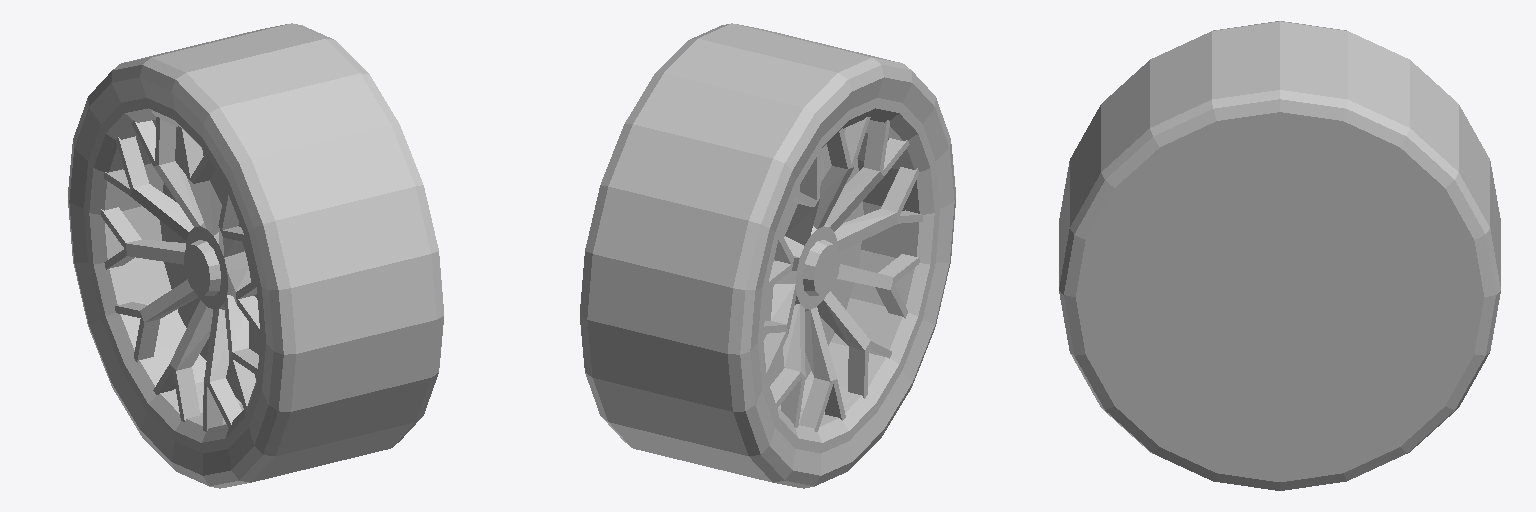
File: Lamborghini_Aventador_front_right_wheel.obj
The picture shows the model from 3 angles: view 1: azimuth 30°, elevation 25°; view 2: azimuth 150°, elevation 25°; view 3: azimuth 270°, elevation 25°; orthographic projection.
Parts seen in each view (by area): view 1: Lamborghini_Aventador:Wheel_RR.006; view 2: Lamborghini_Aventador:Wheel_RR.006; view 3: Lamborghini_Aventador:Wheel_RR.006.
Boxes of the visible parts, <box> form: Lamborghini_Aventador:Wheel_RR.006: <box>68,23,443,488</box>; Lamborghini_Aventador:Wheel_RR.006: <box>580,23,955,488</box>; Lamborghini_Aventador:Wheel_RR.006: <box>1059,21,1500,490</box>.
Size of the model in its own units: 0.3504 by 0.794 by 0.794.